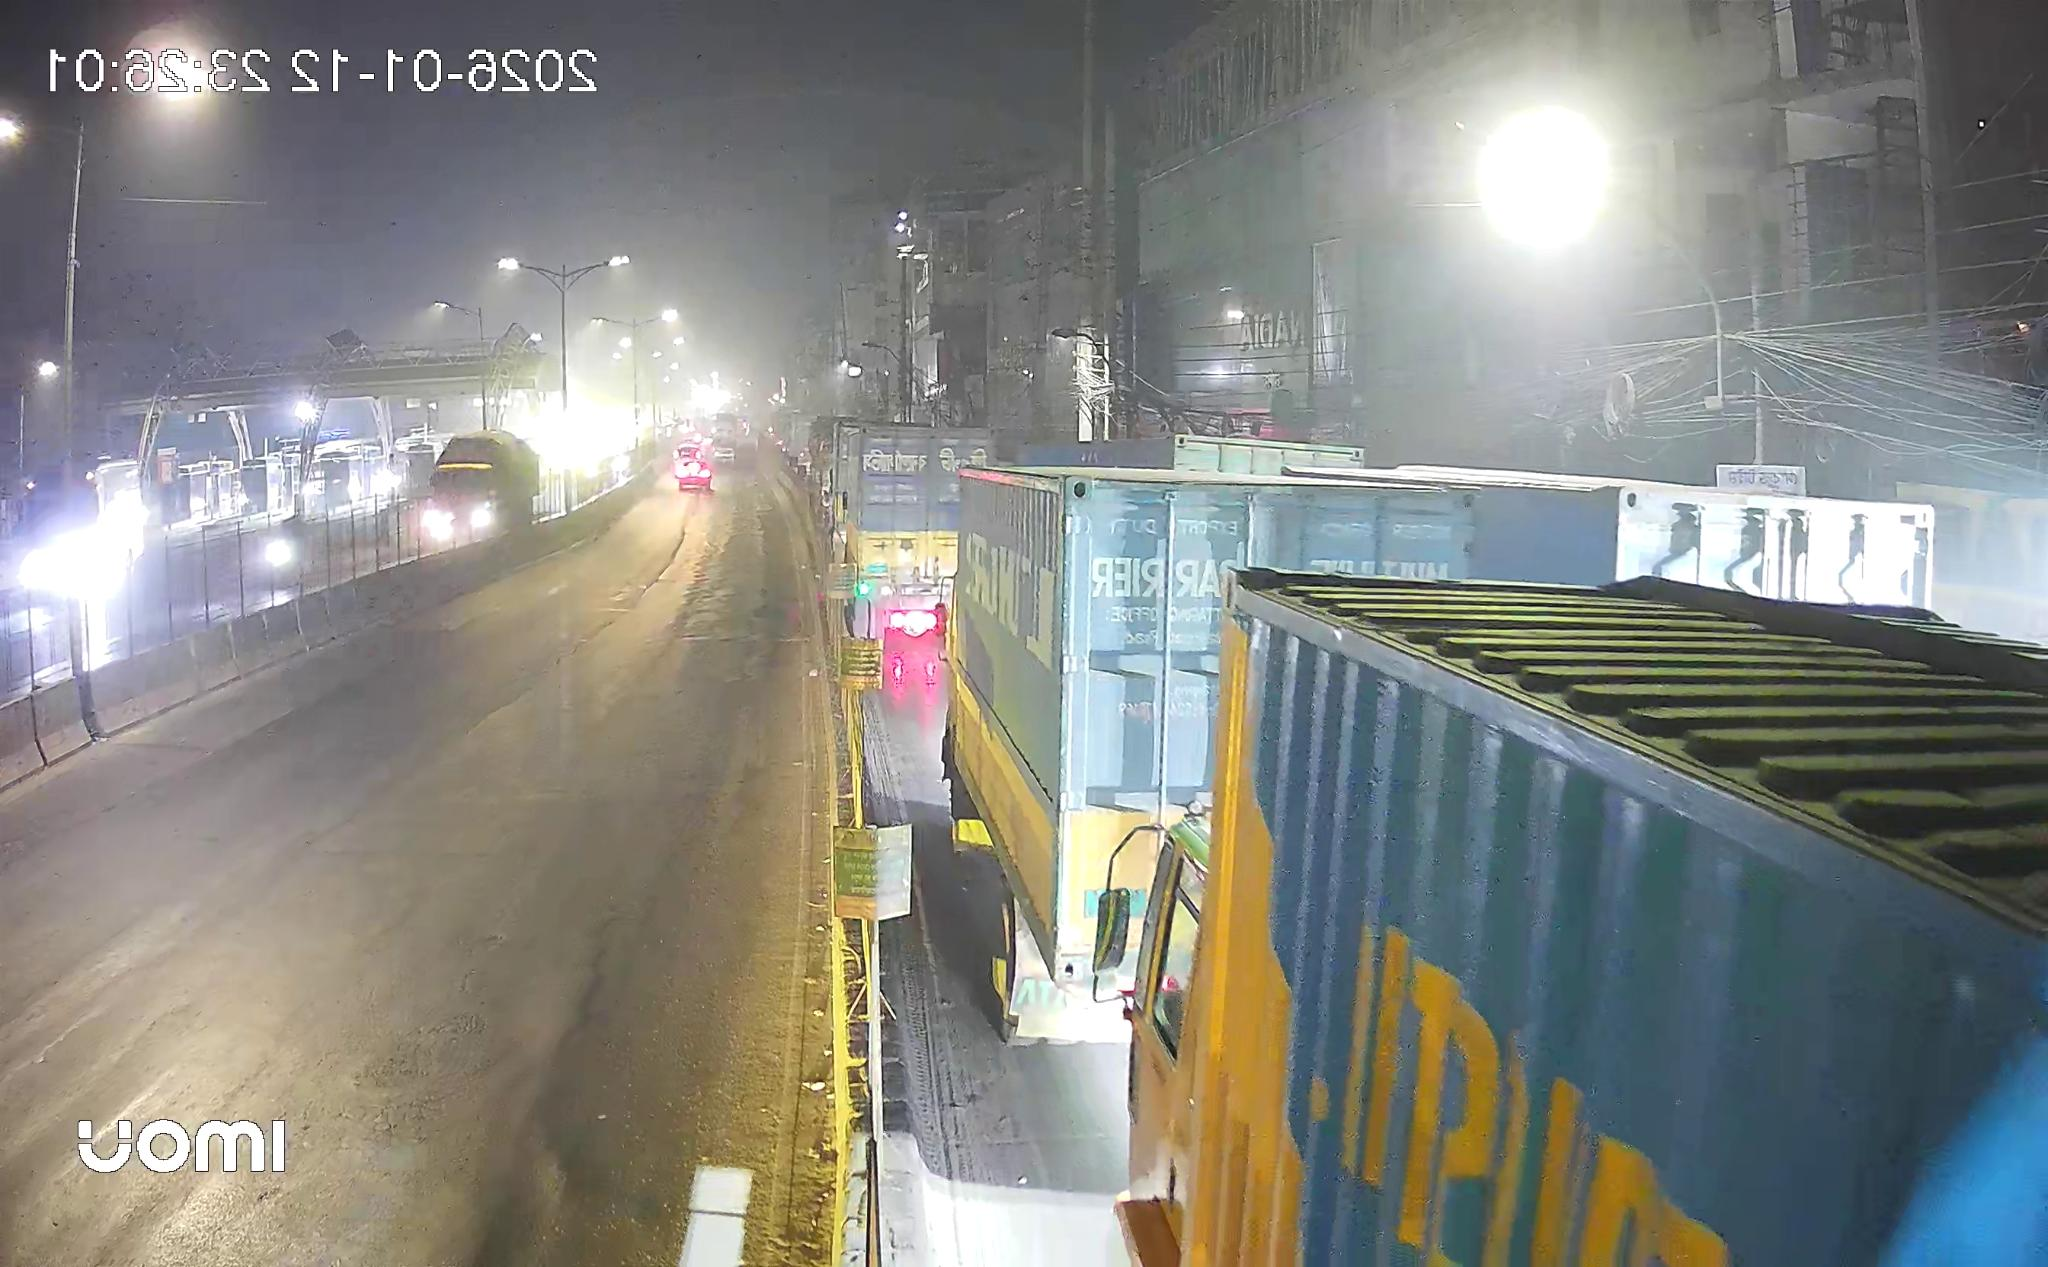Truck: (1115, 568, 2048, 1267), (942, 455, 1539, 1040), (827, 420, 993, 638), (423, 432, 538, 543)
